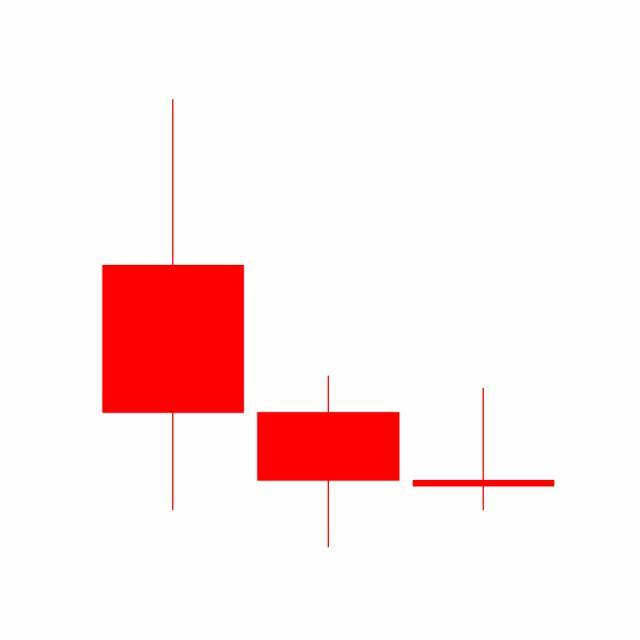Spinning Top: (406, 387, 562, 513)
